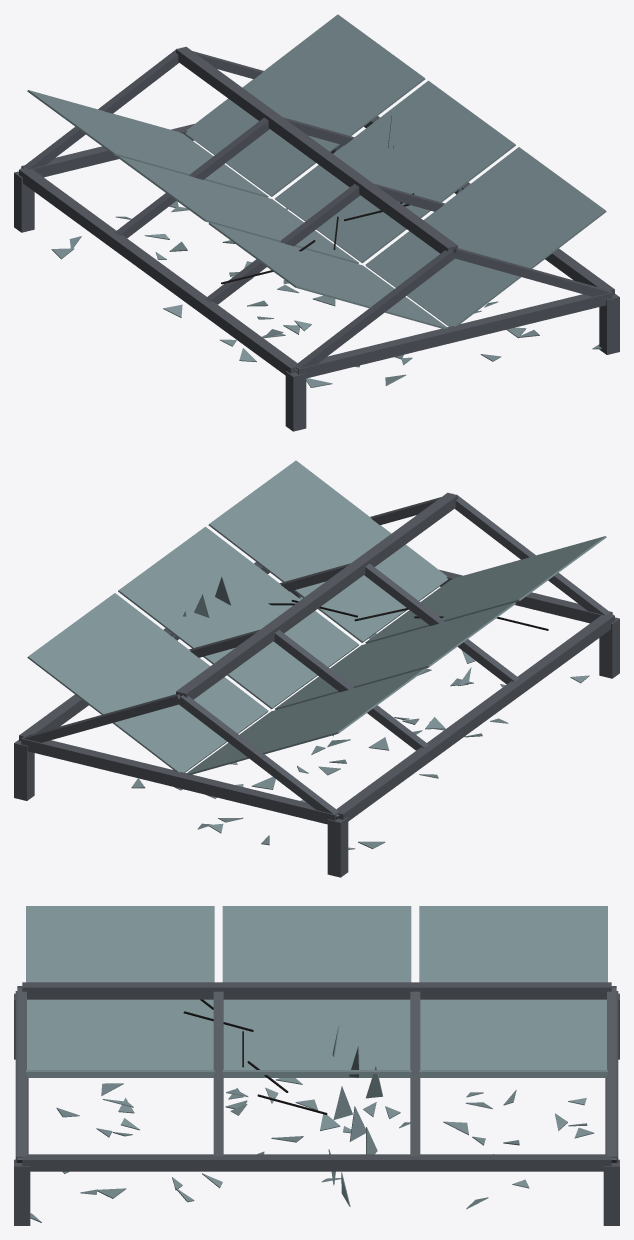
The model's file is skylight_stair.glb.
The picture shows the model from 3 angles, top to bottom: view 1: azimuth 30°, elevation 25°; view 2: azimuth 150°, elevation 25°; view 3: azimuth 270°, elevation 25°; orthographic projection. The views are drawn at different scales.
Visible parts, largest first — view 1: frame_mesh, pane.015, pane.016, pane.010, pane.012, pane.014, pane.013; view 2: frame_mesh, pane.016, pane.015, pane.010, pane.014, pane.013, pane.012; view 3: frame_mesh, pane.014, pane.012, pane.013, pane.015, pane.016, pane.010.
Part boxes in pixels (x1,y1,x2,y2): frame_mesh: [14, 46, 619, 431]; pane.015: [365, 147, 606, 326]; pane.016: [185, 14, 425, 196]; pane.010: [275, 80, 515, 263]; pane.012: [208, 222, 447, 328]; pane.014: [27, 90, 268, 197]; pane.013: [118, 156, 358, 263]; frame_mesh: [14, 492, 619, 877]; pane.016: [27, 593, 268, 772]; pane.015: [208, 460, 448, 642]; pane.010: [118, 526, 358, 709]; pane.014: [186, 668, 425, 774]; pane.013: [275, 602, 515, 709]; pane.012: [365, 536, 606, 643]; frame_mesh: [14, 982, 619, 1225]; pane.014: [419, 906, 607, 1069]; pane.012: [26, 906, 214, 1069]; pane.013: [222, 906, 411, 1069]; pane.015: [26, 1070, 214, 1077]; pane.016: [419, 1070, 607, 1077]; pane.010: [222, 1070, 411, 1077].
Size of what is drawn, in the model's own units: 2.55 by 1.11 by 3.7.
